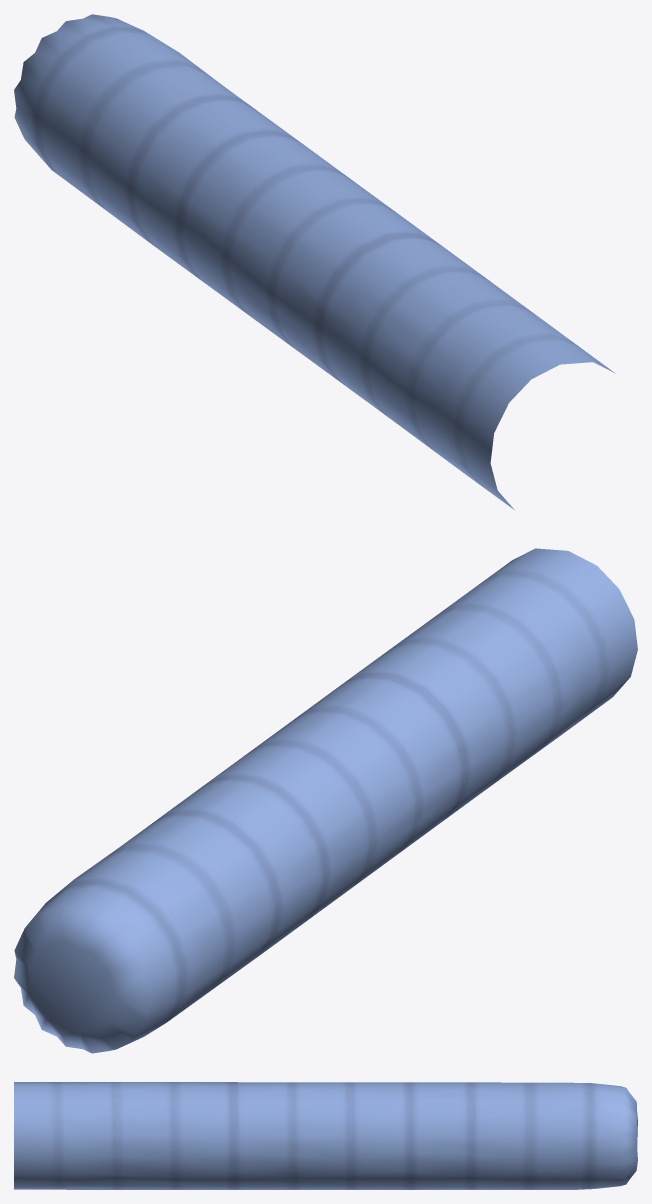
File: XIYOUQI003.glb
3 views of the same model, one above another, from view 1: azimuth 30°, elevation 25°; view 2: azimuth 150°, elevation 25°; view 3: azimuth 270°, elevation 25° (orthographic). The views are drawn at different scales.
Visible parts, largest first — view 1: XIYOUQI003; view 2: XIYOUQI003; view 3: XIYOUQI003.
Part boxes in pixels (x1,y1,x2,y2): XIYOUQI003: (14,14,615,510); XIYOUQI003: (14,548,637,1053); XIYOUQI003: (14,1082,637,1189).
Bounding box in the file's own units: 0.3868 × 0.3864 × 2.24.
1 material, 1 textured.
